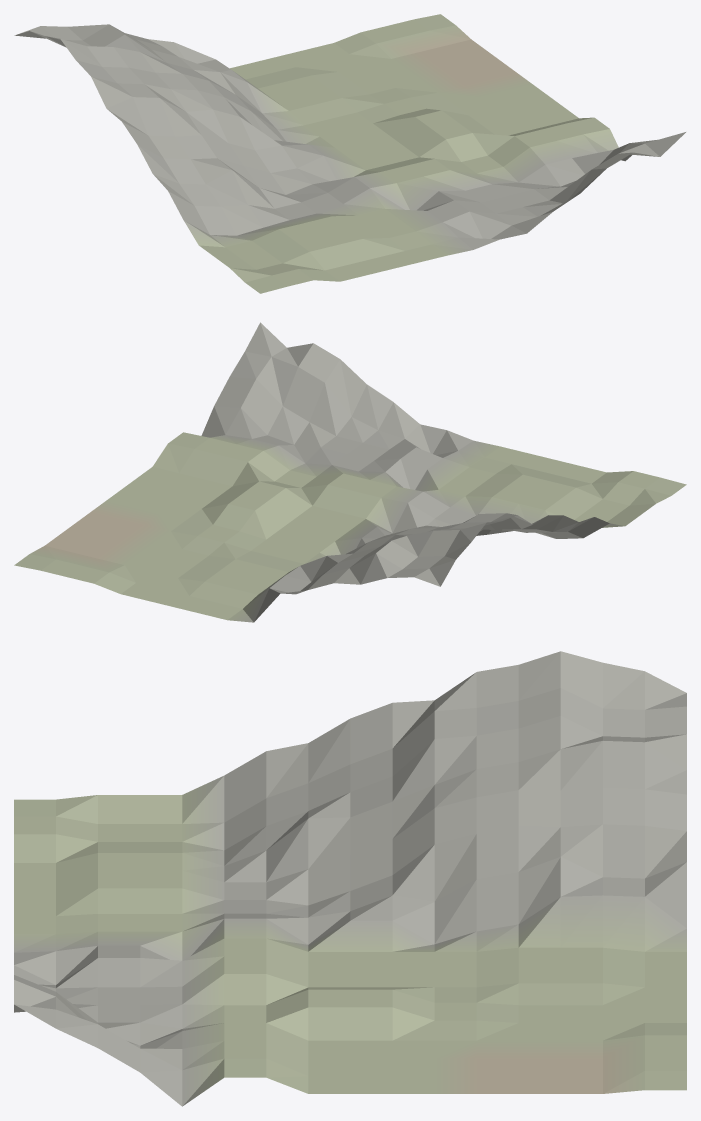
The picture shows the model from 3 angles, top to bottom: view 1: azimuth 30°, elevation 25°; view 2: azimuth 150°, elevation 25°; view 3: azimuth 270°, elevation 25°; orthographic projection. The views are drawn at different scales.
Size of the model in its own units: 32 by 9.13 by 32.
